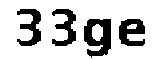3: (50, 6, 79, 50), (14, 6, 42, 51)
e: (118, 16, 152, 50)
g: (80, 15, 118, 58)
